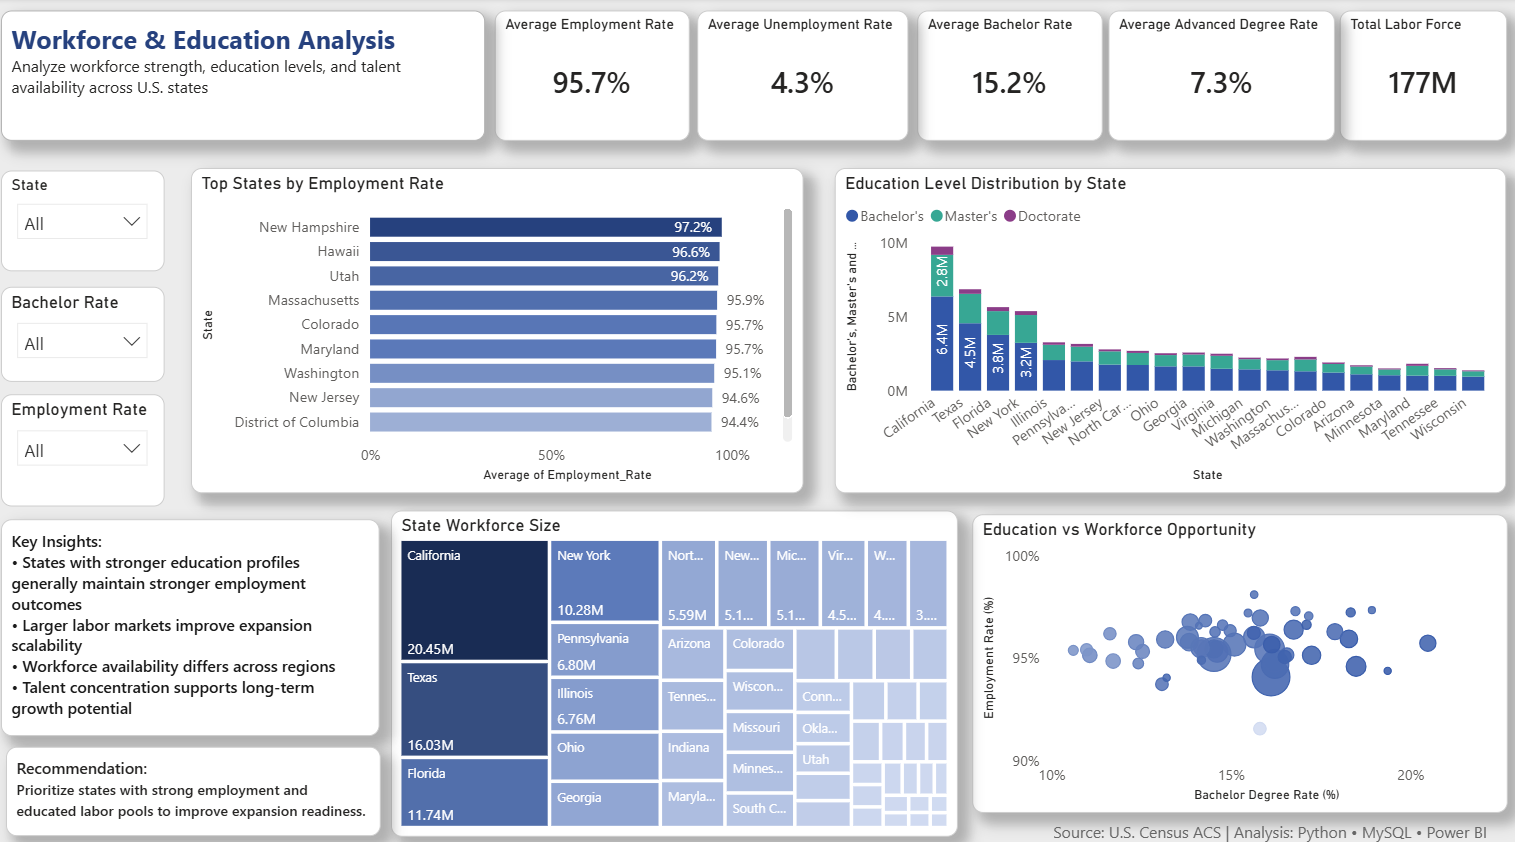

What the dashboard file says about the page in this screenshot:
{"tool":"powerbi","page":{"name":"Workforce & Education Analysis","canvas":[1280,720],"ordinal":2},"visuals":[{"type":"slicer","title":"Bachelor Rate","fields":{"Values":["ACS_Master_Dataset.Bachelor_Rate"]},"box":[4.7,243,137.2,80.2],"z":0},{"type":"slicer","title":"State","fields":{"Values":["ACS_Master_Dataset.State"]},"box":[4.7,145.3,137.2,84.9],"z":1000},{"type":"slicer","title":"Employment Rate","fields":{"Values":["ACS_Master_Dataset.Employment_Rate"]},"box":[4.7,333.7,137.2,94.2],"z":2000},{"type":"clusteredBarChart","title":"Top States by Employment Rate","fields":{"Category":["ACS_Master_Dataset.State"],"Y":["Avg(ACS_Master_Dataset.Employment_Rate)"]},"box":[164,143,515.1,273.3],"z":3000},{"type":"scatterChart","title":"Education vs Workforce Opportunity","fields":{"X":["ACS_Master_Dataset.Bachelor_Rate"],"Y":["ACS_Master_Dataset.Employment_Rate"],"Size":["Avg(ACS_Master_Dataset.Population)"]},"box":[820.9,433.7,450,251.2],"z":4000},{"type":"cardVisual","title":"Average Employment Rate","fields":{"Data":["ACS_Master_Dataset.Avg Employment"]},"box":[419.8,10.5,164,109.3],"z":5000},{"type":"cardVisual","title":"Average Bachelor Rate","fields":{"Data":["ACS_Master_Dataset.Avg Bachelor Rate"]},"box":[774.4,10.5,155.8,109.3],"z":6000},{"type":"cardVisual","title":"Total Labor Force","fields":{"Data":["ACS_Master_Dataset.Total Labor Force"]},"box":[1130.2,10.5,140.7,109.3],"z":7000},{"type":"treemap","title":"State Workforce Size","fields":{"Values":["Avg(ACS_Master_Dataset.Labor_Force)"],"Group":["ACS_Master_Dataset.State"]},"box":[332.6,431.4,476.7,274.4],"z":8000},{"type":"cardVisual","title":"Average Unemployment Rate","fields":{"Data":["ACS_Master_Dataset.Avg Unemployment"]},"box":[589.5,10.5,177.9,109.3],"z":9000},{"type":"textbox","box":[4.7,438.4,318.6,182.6],"z":10000},{"type":"textbox","box":[883.7,687.2,396.5,32.6],"z":11000},{"type":"textbox","box":[4.7,10.5,407,109.3],"z":12000},{"type":"columnChart","title":"Education Level Distribution by State","fields":{"Category":["ACS_Master_Dataset.State"],"Y":["Avg(ACS_Master_Dataset.Bachelors)","Avg(ACS_Master_Dataset.Masters)","Avg(ACS_Master_Dataset.Doctorate)"]},"box":[705.8,143,565.1,273.3],"z":13000},{"type":"cardVisual","title":"Average Advanced Degree Rate","fields":{"Data":["ACS_Master_Dataset.Avg Masters Rate"]},"box":[936,10.5,190.7,109.3],"z":14000},{"type":"textbox","box":[8.1,630.2,315.1,75.6],"z":15000}]}

Visuals, with their boxes in screenshot pixels (x1, y1, x2, y2), scaled from the page's 1280x720 canvas onto the 1515x842 screenshot:
"Bachelor Rate" slicer: pyautogui.locateOnScreen(6, 284, 168, 378)
"State" slicer: pyautogui.locateOnScreen(6, 170, 168, 269)
"Employment Rate" slicer: pyautogui.locateOnScreen(6, 390, 168, 500)
"Top States by Employment Rate" clusteredBarChart: pyautogui.locateOnScreen(194, 167, 804, 487)
"Education vs Workforce Opportunity" scatterChart: pyautogui.locateOnScreen(972, 507, 1504, 801)
"Average Employment Rate" cardVisual: pyautogui.locateOnScreen(497, 12, 691, 140)
"Average Bachelor Rate" cardVisual: pyautogui.locateOnScreen(917, 12, 1101, 140)
"Total Labor Force" cardVisual: pyautogui.locateOnScreen(1338, 12, 1504, 140)
"State Workforce Size" treemap: pyautogui.locateOnScreen(394, 504, 958, 825)
"Average Unemployment Rate" cardVisual: pyautogui.locateOnScreen(698, 12, 908, 140)
textbox: pyautogui.locateOnScreen(6, 513, 383, 726)
textbox: pyautogui.locateOnScreen(1046, 804, 1514, 841)
textbox: pyautogui.locateOnScreen(6, 12, 487, 140)
"Education Level Distribution by State" columnChart: pyautogui.locateOnScreen(835, 167, 1504, 487)
"Average Advanced Degree Rate" cardVisual: pyautogui.locateOnScreen(1108, 12, 1334, 140)
textbox: pyautogui.locateOnScreen(10, 737, 383, 825)
